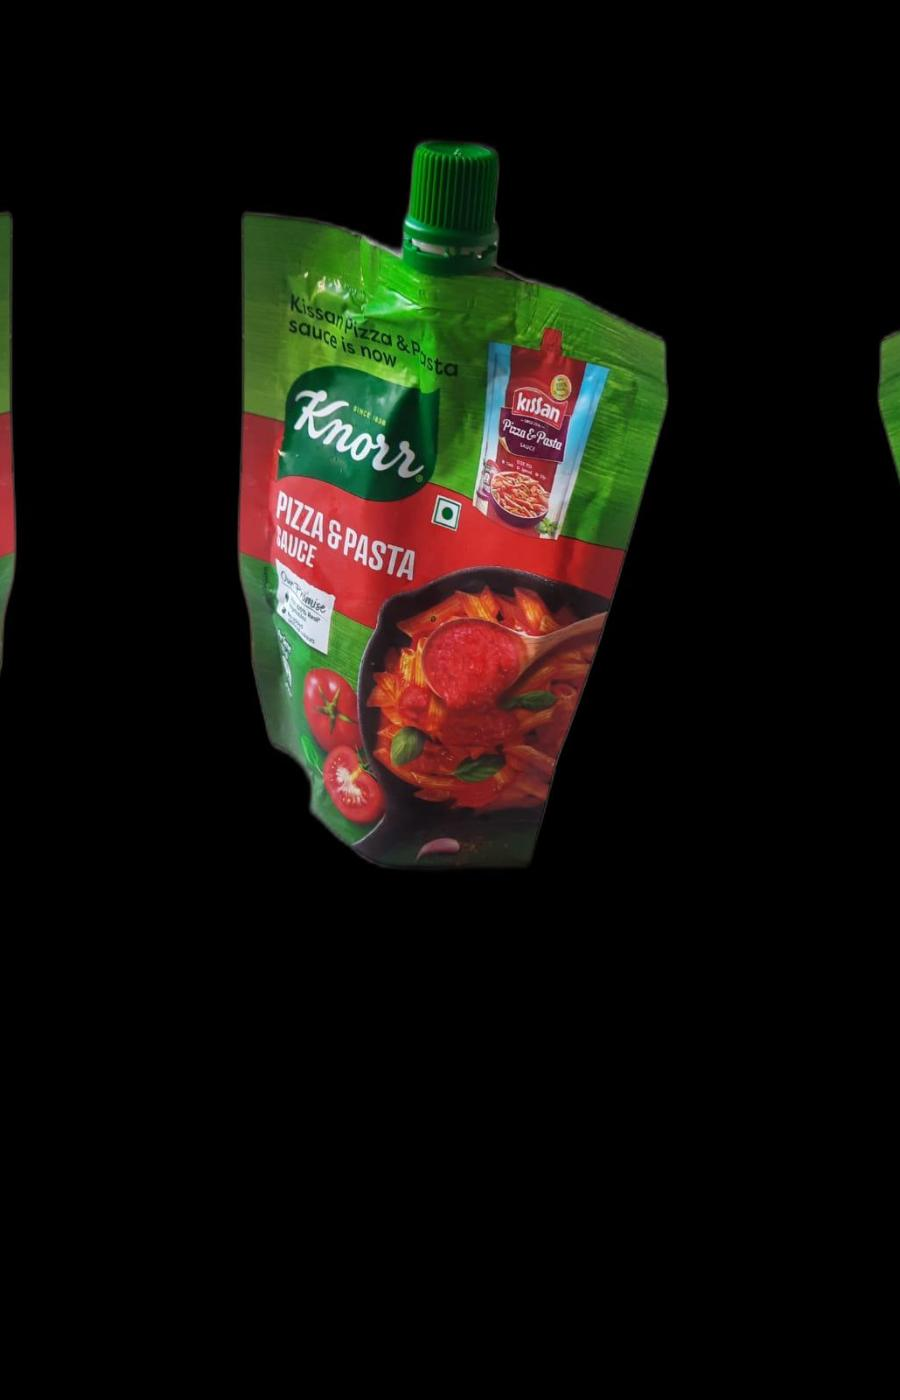Knorr Pizza Pasta Sauce: (216, 126, 667, 872)
